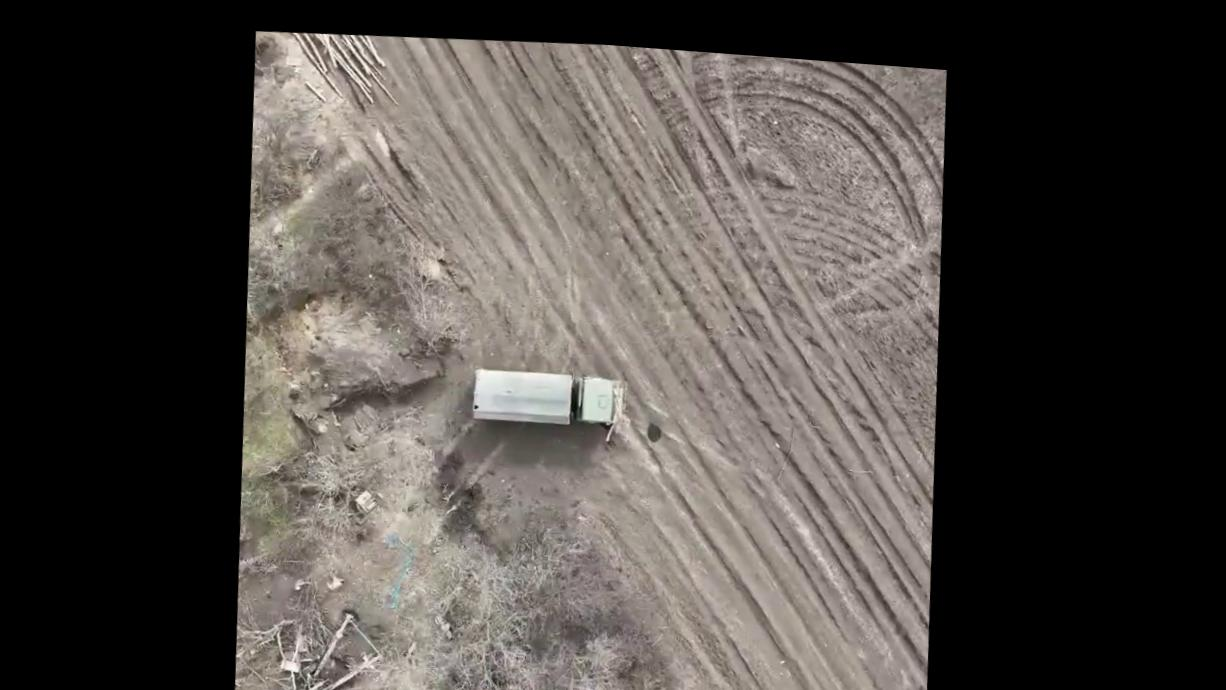vehicle: (470, 360, 630, 433), (241, 614, 380, 690)
